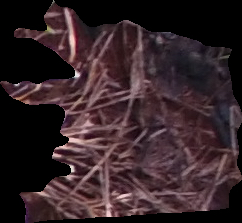soil: (2, 2, 239, 220)
